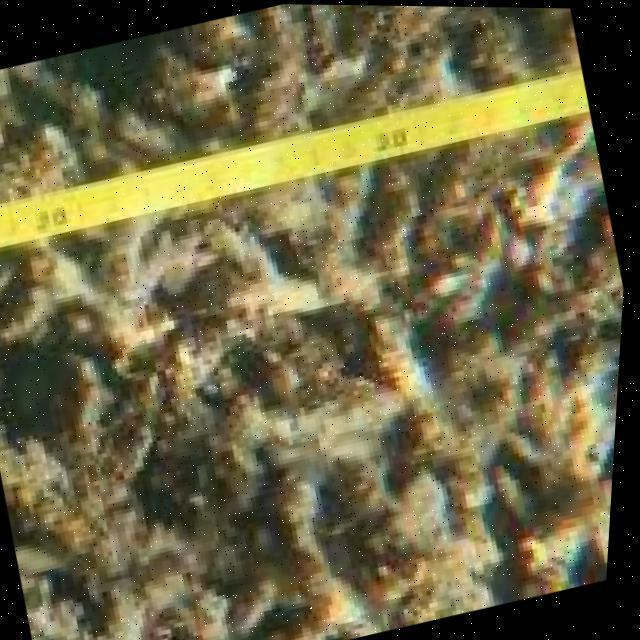Dead Coral: (0, 106, 635, 640)
